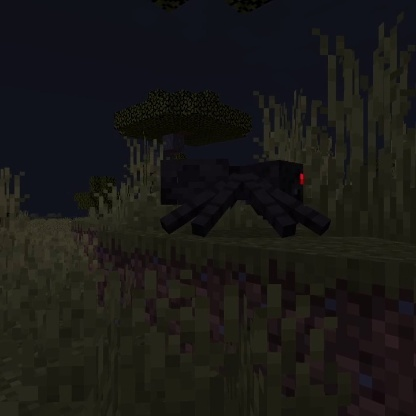spider: (154, 154, 334, 240)
